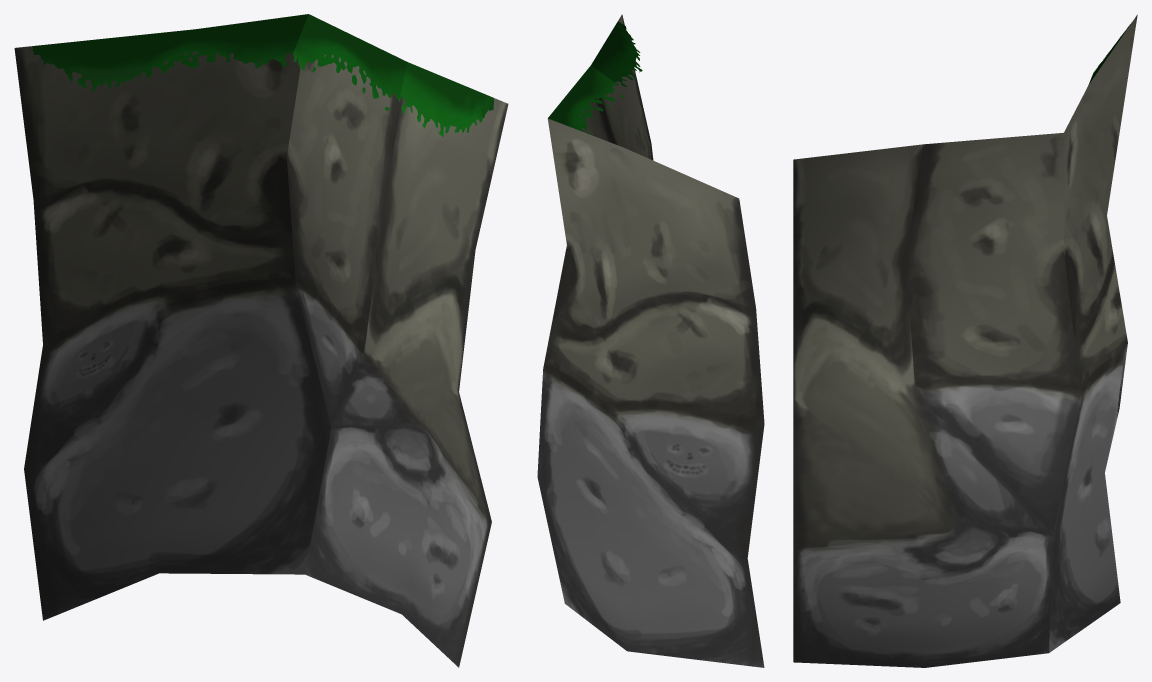
File: WallInnerEdge.FBX
The picture shows the model from 3 angles, left to right: view 1: azimuth 30°, elevation 25°; view 2: azimuth 150°, elevation 25°; view 3: azimuth 270°, elevation 25°; orthographic projection. The views are drawn at different scales.
Parts seen in each view (by area): view 1: Box005; view 2: Box005; view 3: Box005.
Boxes of the visible parts, x1,y1,x2,y2 form: Box005: (14, 14, 508, 667); Box005: (537, 14, 764, 667); Box005: (793, 14, 1137, 667).
Size of the model in its own units: 48.18 by 80 by 47.5.
Materials: 1 (1 with a texture image).
